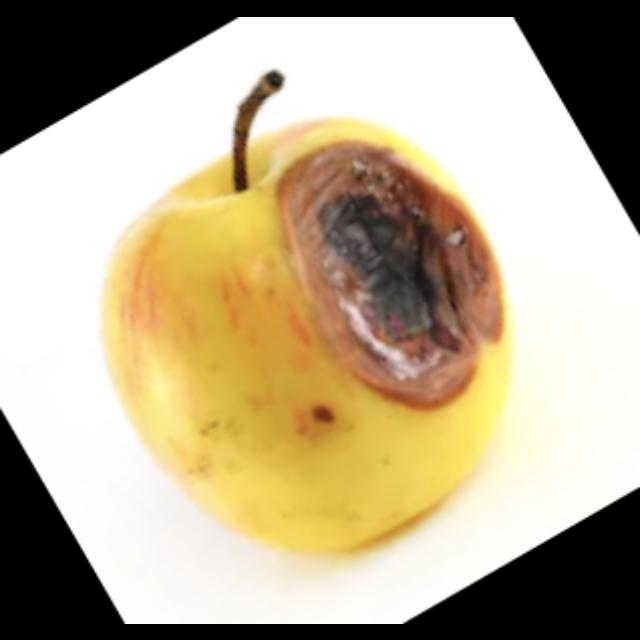Apel Tidak Segar: (90, 138, 518, 560)
